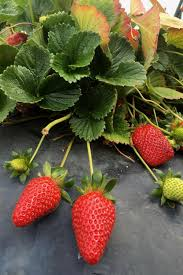Fresa: (70, 186, 119, 267), (10, 170, 68, 229), (126, 118, 177, 169)
